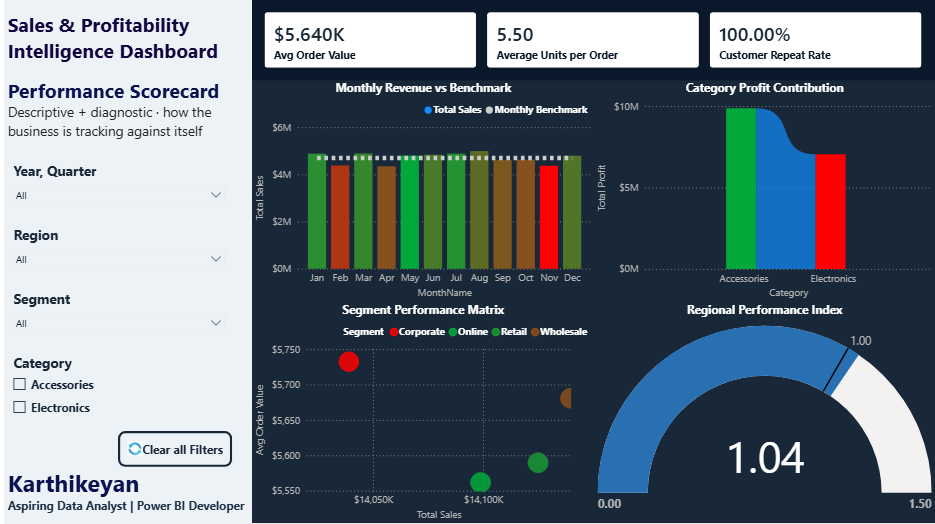

This screenshot's page, from the dashboard's own definition file:
{"tool":"powerbi","page":{"name":"Performance Scorecard","canvas":[1280,720],"ordinal":3},"visuals":[{"type":"shape","box":[0,0,340.6,720],"z":0,"group":"g1"},{"type":"shape","box":[340.6,110.5,939.6,609.5],"z":1000,"group":"g1"},{"type":"shape","box":[340.6,0,939.6,110.5],"z":2000,"group":"g1"},{"type":"cardVisual","fields":{"Data":["SalesData.Avg Order Value","SalesData.Average Units per Order","SalesData.Customer Repeat Rate"]},"box":[340.6,0,939.6,110.5],"z":3000,"group":"g1"},{"type":"textbox","box":[0,9,340.6,91.1],"z":4000,"group":"g1"},{"type":"slicer","fields":{"Values":["Calendar.Year","Calendar.Quarter"]},"box":[0,216.6,313.7,88.1],"z":5000,"group":"g1"},{"type":"slicer","fields":{"Values":["SalesData.Region"]},"box":[0,304.7,313.7,88.1],"z":6000,"group":"g1"},{"type":"slicer","fields":{"Values":["SalesData.Category"]},"box":[0,481,313.7,110.5],"z":7000,"group":"g1"},{"type":"slicer","fields":{"Values":["SalesData.Segment"]},"box":[0,392.9,313.7,88.1],"z":8000,"group":"g1"},{"type":"textbox","box":[0,636.3,339.1,83.7],"z":9000,"group":"g1"},{"type":"actionButton","box":[156.8,591.5,156.8,49.3],"z":10000,"group":"g1"},{"type":"textbox","box":[0,100.1,340.6,116.5],"z":11000,"group":"g1"},{"type":"lineClusteredColumnComboChart","title":"Monthly Revenue vs Benchmark","fields":{"Category":["Calendar.MonthName"],"Y":["SalesData.Total Sales"],"Y2":["Customers.Monthly Benchmark"]},"box":[340.6,110.5,470.5,304.7],"z":12000,"group":"g1"},{"type":"ribbonChart","title":"Category Profit Contribution","fields":{"Category":["SalesData.Category"],"Y":["SalesData.Total Profit"]},"box":[811.1,110.5,469,304.7],"z":13000,"group":"g1"},{"type":"scatterChart","title":"Segment Performance Matrix","fields":{"X":["SalesData.Total Sales"],"Y":["SalesData.Avg Order Value"],"Series":["SalesData.Segment"],"Size":["CountNonNull(SalesData.Segment)"]},"box":[340.6,415.3,470.5,304.7],"z":14000,"group":"g1"},{"type":"gauge","title":"Regional Performance Index","fields":{"Y":["SalesData.Regional Attainment Index"]},"box":[811.1,415.3,469,304.7],"z":15000,"group":"g1"},{"type":"group","id":"g1","title":"Group 1","box":[0,0,1280.2,720],"z":15001}]}

Visuals, with their boxes in screenshot pixels (x1, y1, x2, y2), scaled from the page's 1280x720 canvas onto the 935x524 screenshot:
shape: x1=0, y1=0, x2=249, y2=523
shape: x1=249, y1=80, x2=934, y2=523
shape: x1=249, y1=0, x2=934, y2=80
cardVisual - SalesData.Avg Order Value x SalesData.Average Units per Order: x1=249, y1=0, x2=934, y2=80
textbox: x1=0, y1=7, x2=249, y2=73
slicer - Calendar.Year x Calendar.Quarter: x1=0, y1=158, x2=229, y2=222
slicer - SalesData.Region: x1=0, y1=222, x2=229, y2=286
slicer - SalesData.Category: x1=0, y1=350, x2=229, y2=430
slicer - SalesData.Segment: x1=0, y1=286, x2=229, y2=350
textbox: x1=0, y1=463, x2=248, y2=523
actionButton: x1=115, y1=430, x2=229, y2=466
textbox: x1=0, y1=73, x2=249, y2=158
"Monthly Revenue vs Benchmark" lineClusteredColumnComboChart: x1=249, y1=80, x2=592, y2=302
"Category Profit Contribution" ribbonChart: x1=592, y1=80, x2=934, y2=302
"Segment Performance Matrix" scatterChart: x1=249, y1=302, x2=592, y2=523
"Regional Performance Index" gauge: x1=592, y1=302, x2=934, y2=523
"Group 1" group: x1=0, y1=0, x2=934, y2=523
